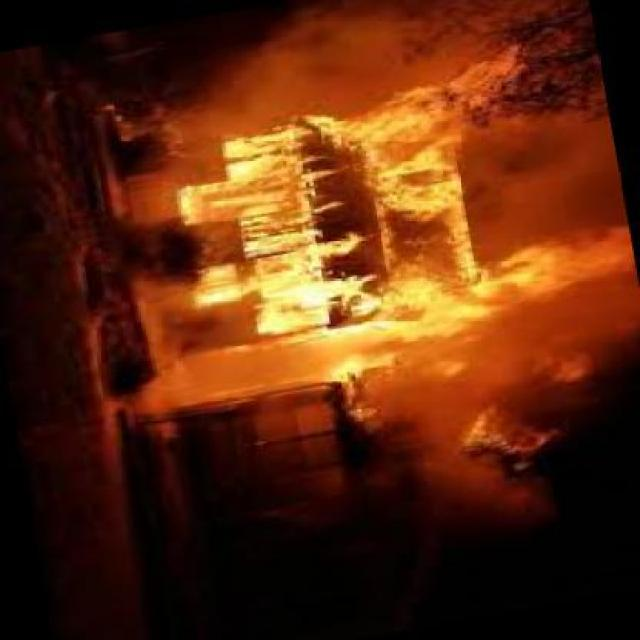Fire: (178, 106, 494, 342), (495, 226, 640, 306), (408, 56, 524, 100)
Smoke: (374, 342, 636, 520), (460, 112, 638, 221), (215, 6, 408, 105)
